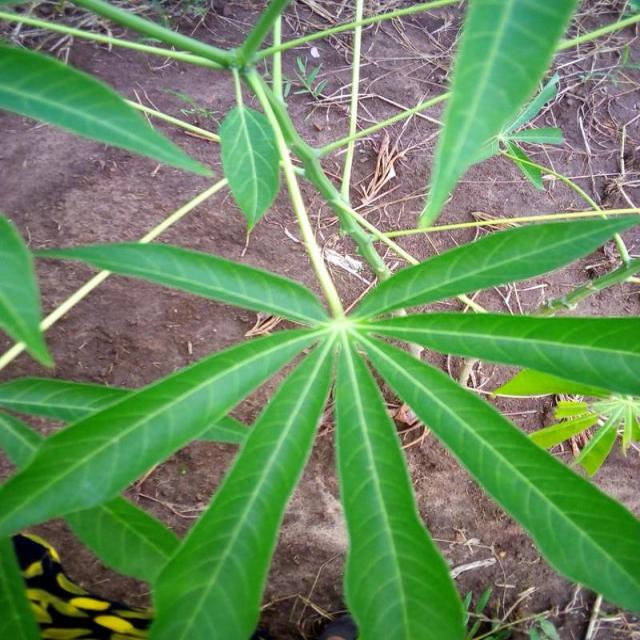cassava leaf: (2, 1, 639, 637), (147, 331, 337, 638), (418, 0, 582, 230), (1, 42, 217, 178), (218, 102, 282, 234)
